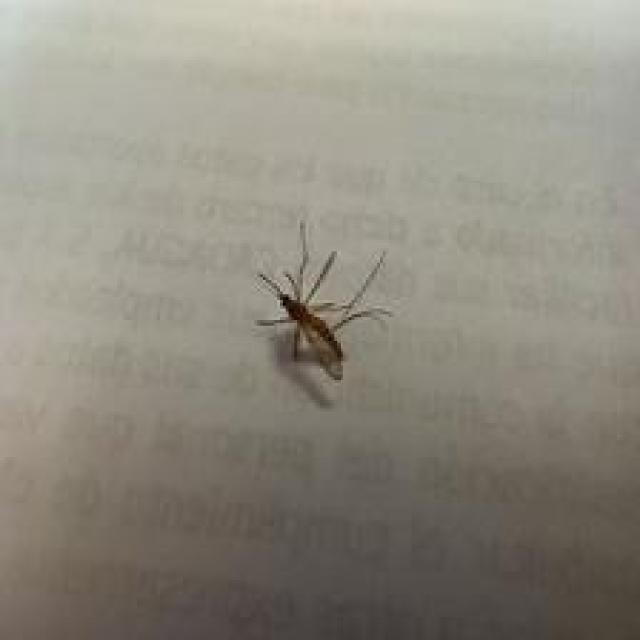Culex: (253, 219, 393, 384)
